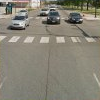crosswalk: (0, 35, 100, 43)
